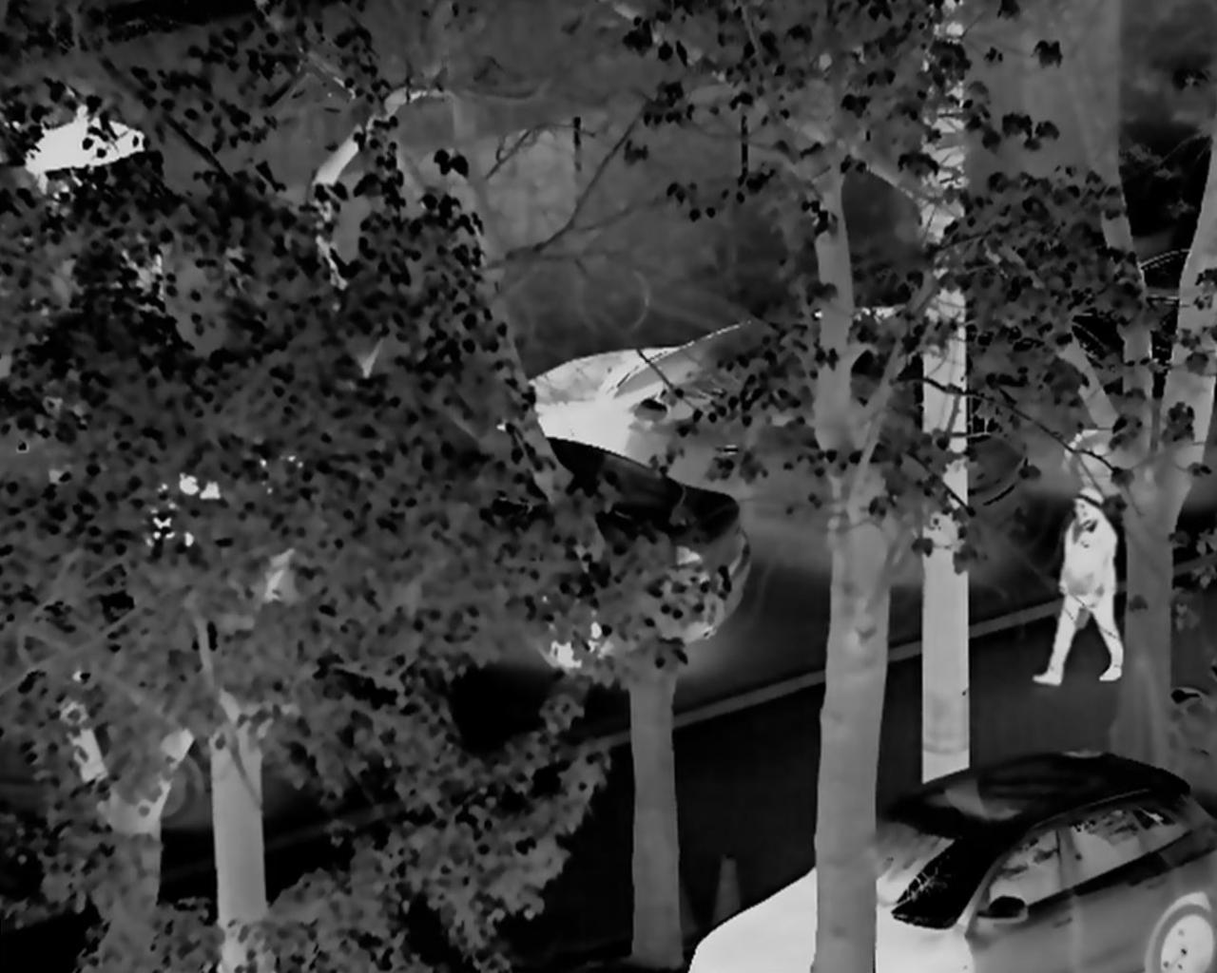person: (1028, 491, 1136, 686)
